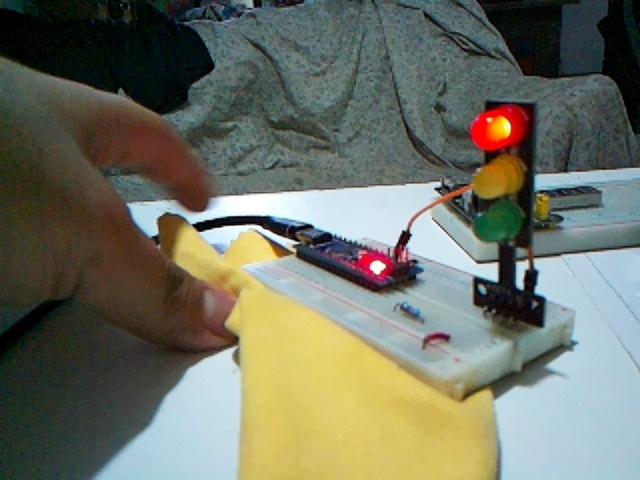traffic_light_red: (471, 103, 538, 304)
